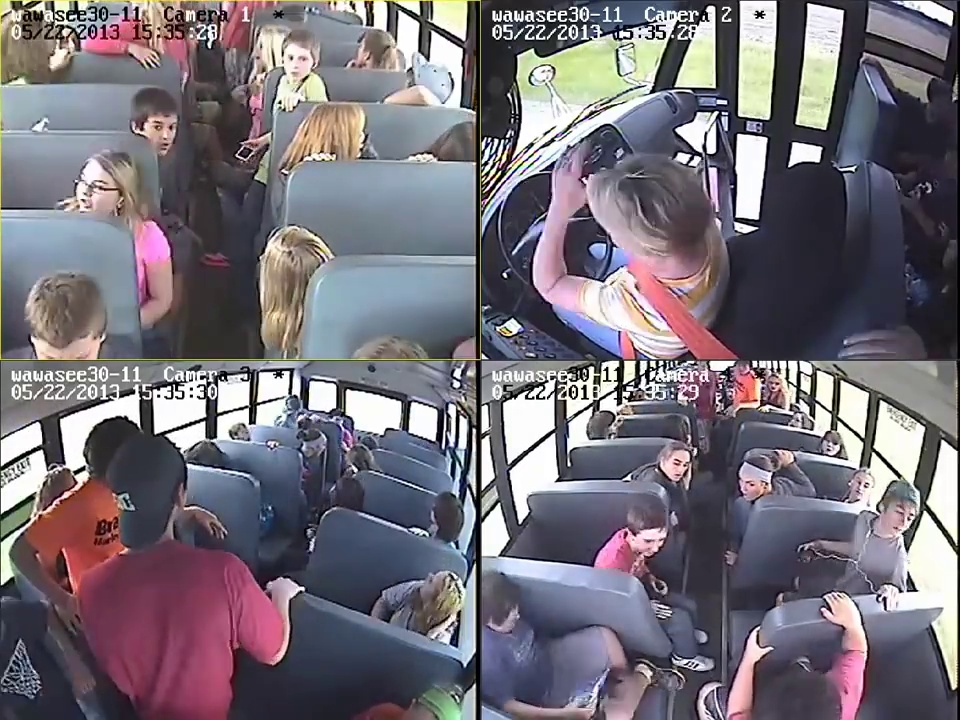face: (77, 170, 113, 210), (883, 496, 913, 537), (149, 111, 177, 153), (282, 44, 311, 78), (637, 529, 667, 559), (665, 451, 691, 484), (737, 472, 762, 499), (850, 477, 872, 500), (821, 436, 839, 457), (791, 414, 807, 429), (768, 377, 782, 391)
